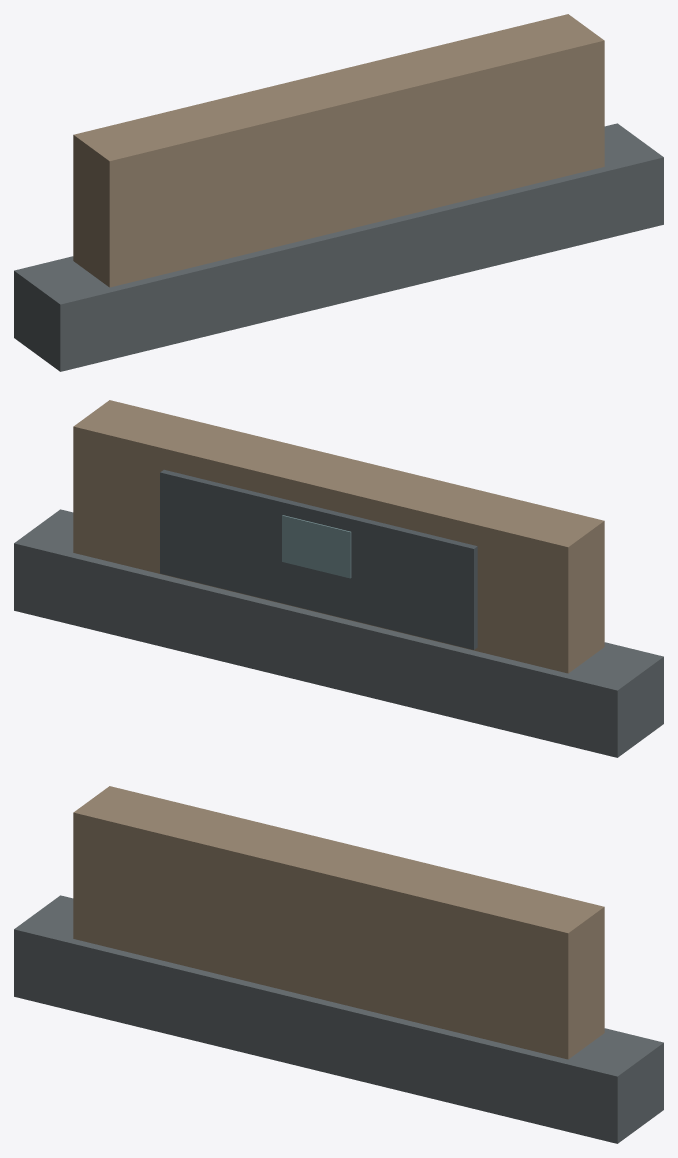
File: iz3_military_barrier_02.glb
The picture shows the model from 3 angles, top to bottom: view 1: azimuth 30°, elevation 25°; view 2: azimuth 150°, elevation 25°; view 3: azimuth 330°, elevation 25°; orthographic projection.
Parts seen in each view (by area): view 1: cabinet, base; view 2: cabinet, base, panel, display; view 3: cabinet, base.
Boxes of the visible parts, box(x1,y1,x2,y2) form: cabinet: box(73, 14, 604, 287); base: box(14, 123, 663, 371); cabinet: box(73, 400, 604, 673); base: box(14, 509, 663, 757); panel: box(160, 469, 477, 649); display: box(282, 515, 351, 578); cabinet: box(73, 786, 604, 1059); base: box(14, 895, 663, 1143).
Bounding box in the file's own units: 3 × 0.92 × 0.4.
